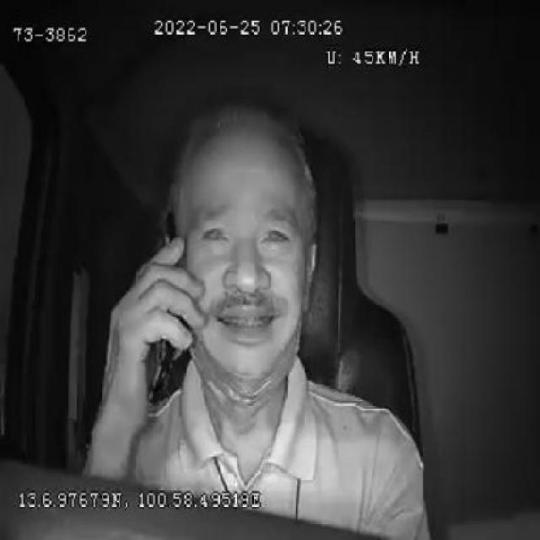phone: (144, 205, 189, 398)
